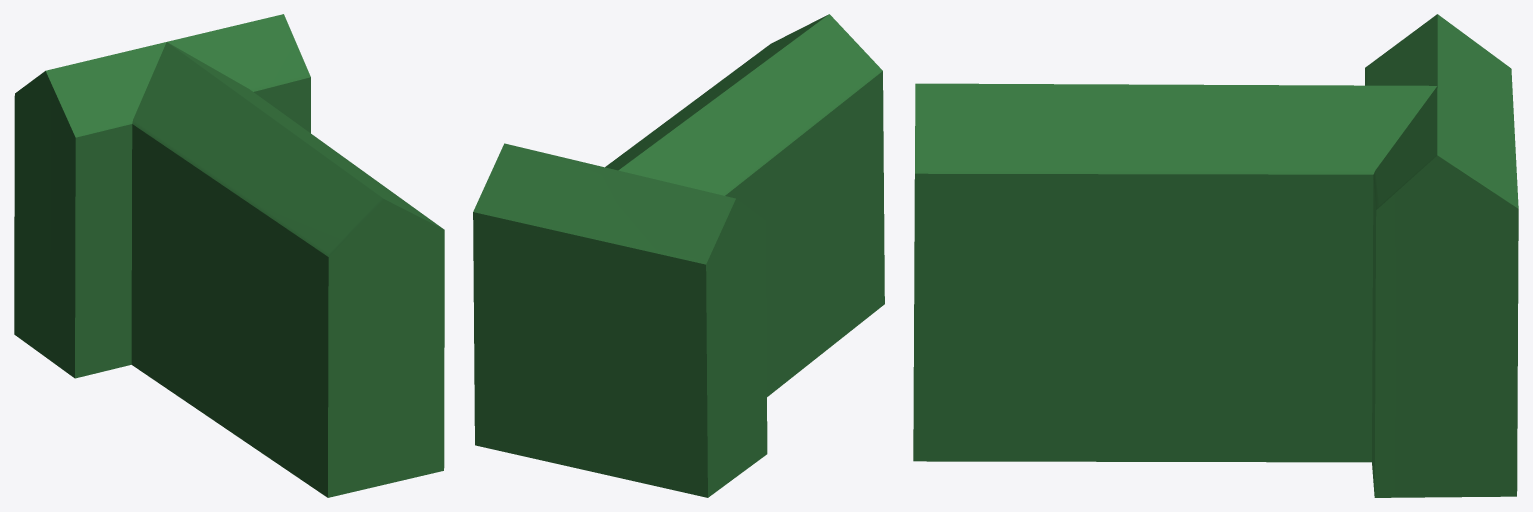
File: Building_4.fbx
3 renders of one model, left to right at view 1: azimuth 30°, elevation 25°; view 2: azimuth 150°, elevation 25°; view 3: azimuth 270°, elevation 25°, orthographic. The views are drawn at different scales.
Parts seen in each view (by area): view 1: building4; view 2: building4; view 3: building4.
Boxes of the visible parts, left/top/right/bottom form: building4: left=14, top=14, right=444, bottom=497; building4: left=473, top=14, right=884, bottom=497; building4: left=913, top=14, right=1518, bottom=497.
Size of the model in its own units: 67.8 by 77.36 by 123.
